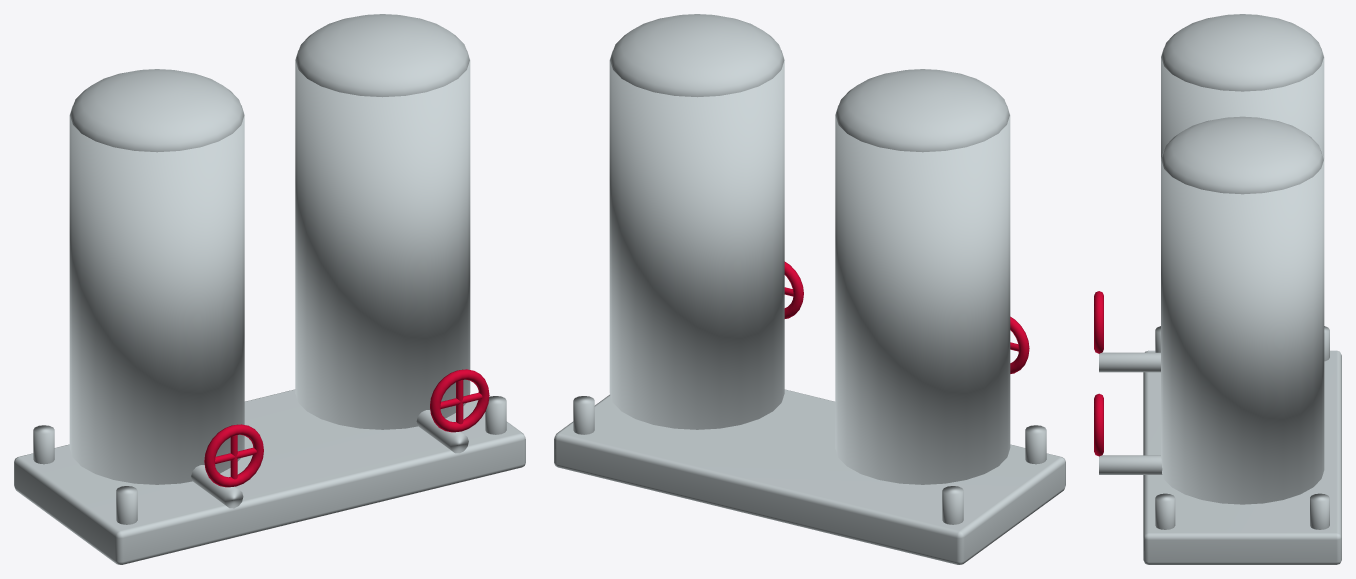
File: CIP_Skid.fbx
3 views of the same model, side by side, from view 1: azimuth 30°, elevation 25°; view 2: azimuth 150°, elevation 25°; view 3: azimuth 270°, elevation 25° (orthographic). The views are drawn at different scales.
Visible parts, largest first — view 1: CIP_Skid_Steel, CIP_Skid_Red; view 2: CIP_Skid_Steel, CIP_Skid_Red; view 3: CIP_Skid_Steel, CIP_Skid_Red.
Part boxes in pixels (x1,y1,x2,y2): CIP_Skid_Steel: (14,14,525,564); CIP_Skid_Red: (204,369,489,487); CIP_Skid_Steel: (554,14,1065,564); CIP_Skid_Red: (784,261,1029,373); CIP_Skid_Steel: (1099,14,1341,564); CIP_Skid_Red: (1094,291,1103,456).
Size of the model in its own units: 200 by 196 by 112.
